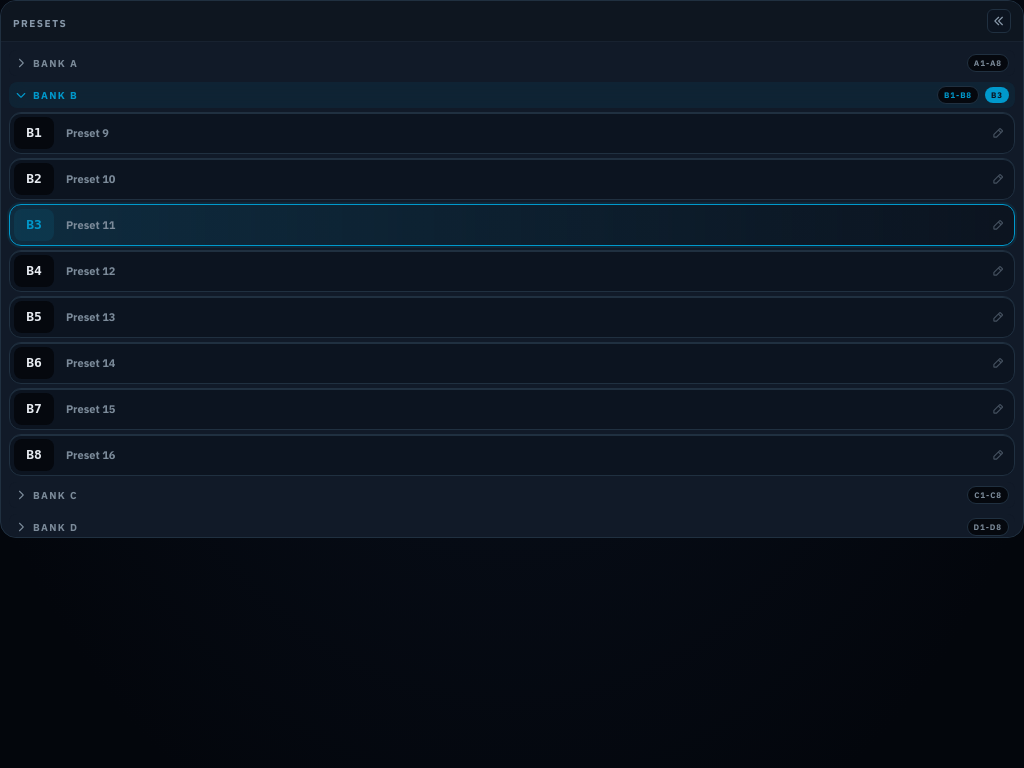
Test: PresetRail bank folding › collapses the active bank while keeping the active-preset chip visible
Click the button "Bank B B1-B8 B3".
click(51, 95)  # box [9, 82, 1015, 108]
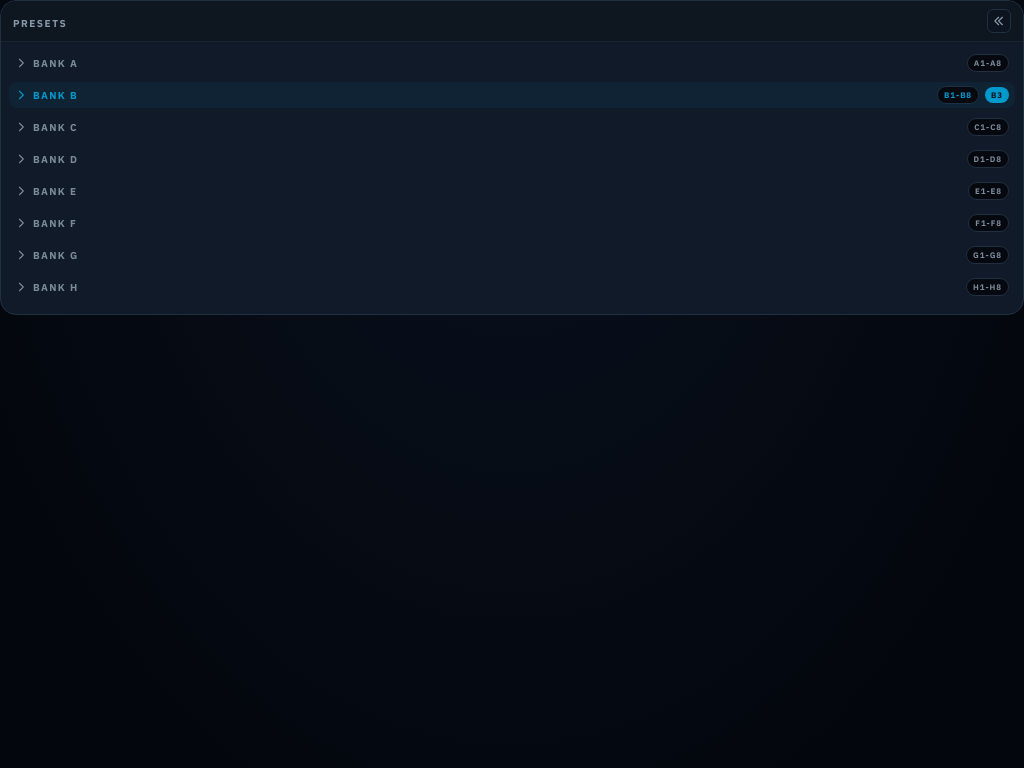
Check: the button "Bank B B1-B8 B3" is collapsed, box [9, 82, 1015, 108]
